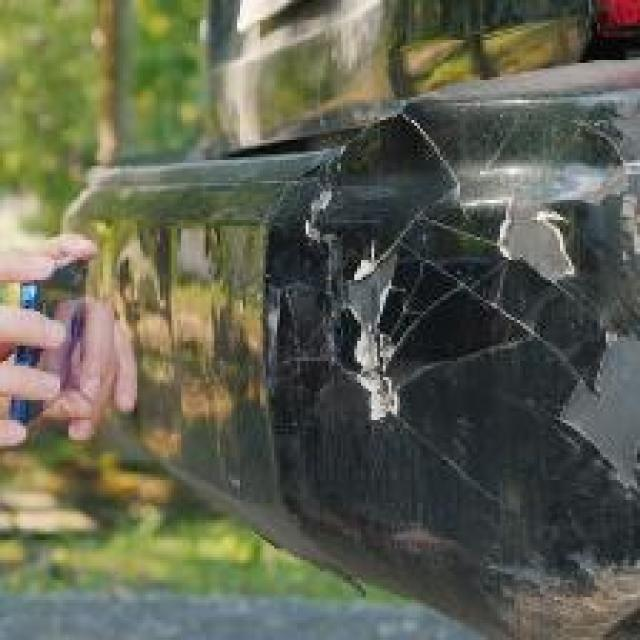damaged: (274, 105, 637, 626)
